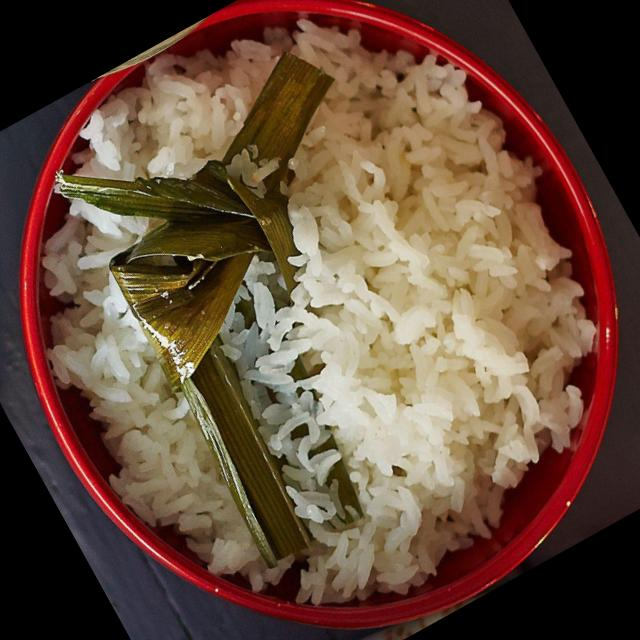rice: (53, 20, 602, 599)
